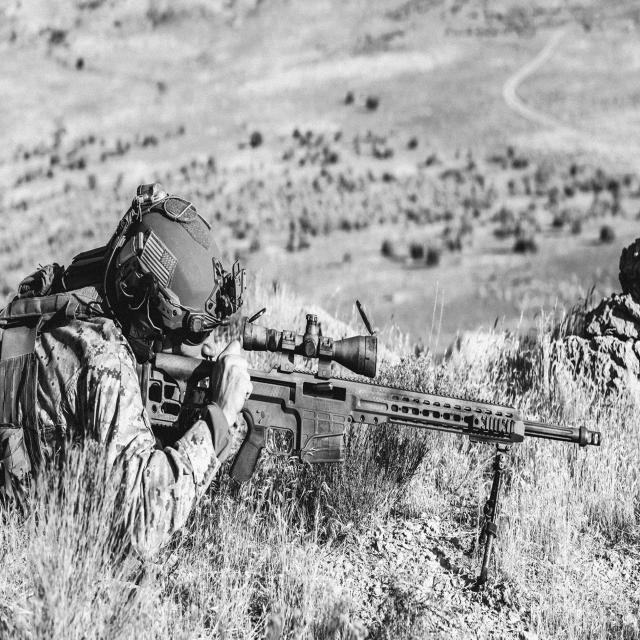Sniper: (141, 312, 603, 602)
